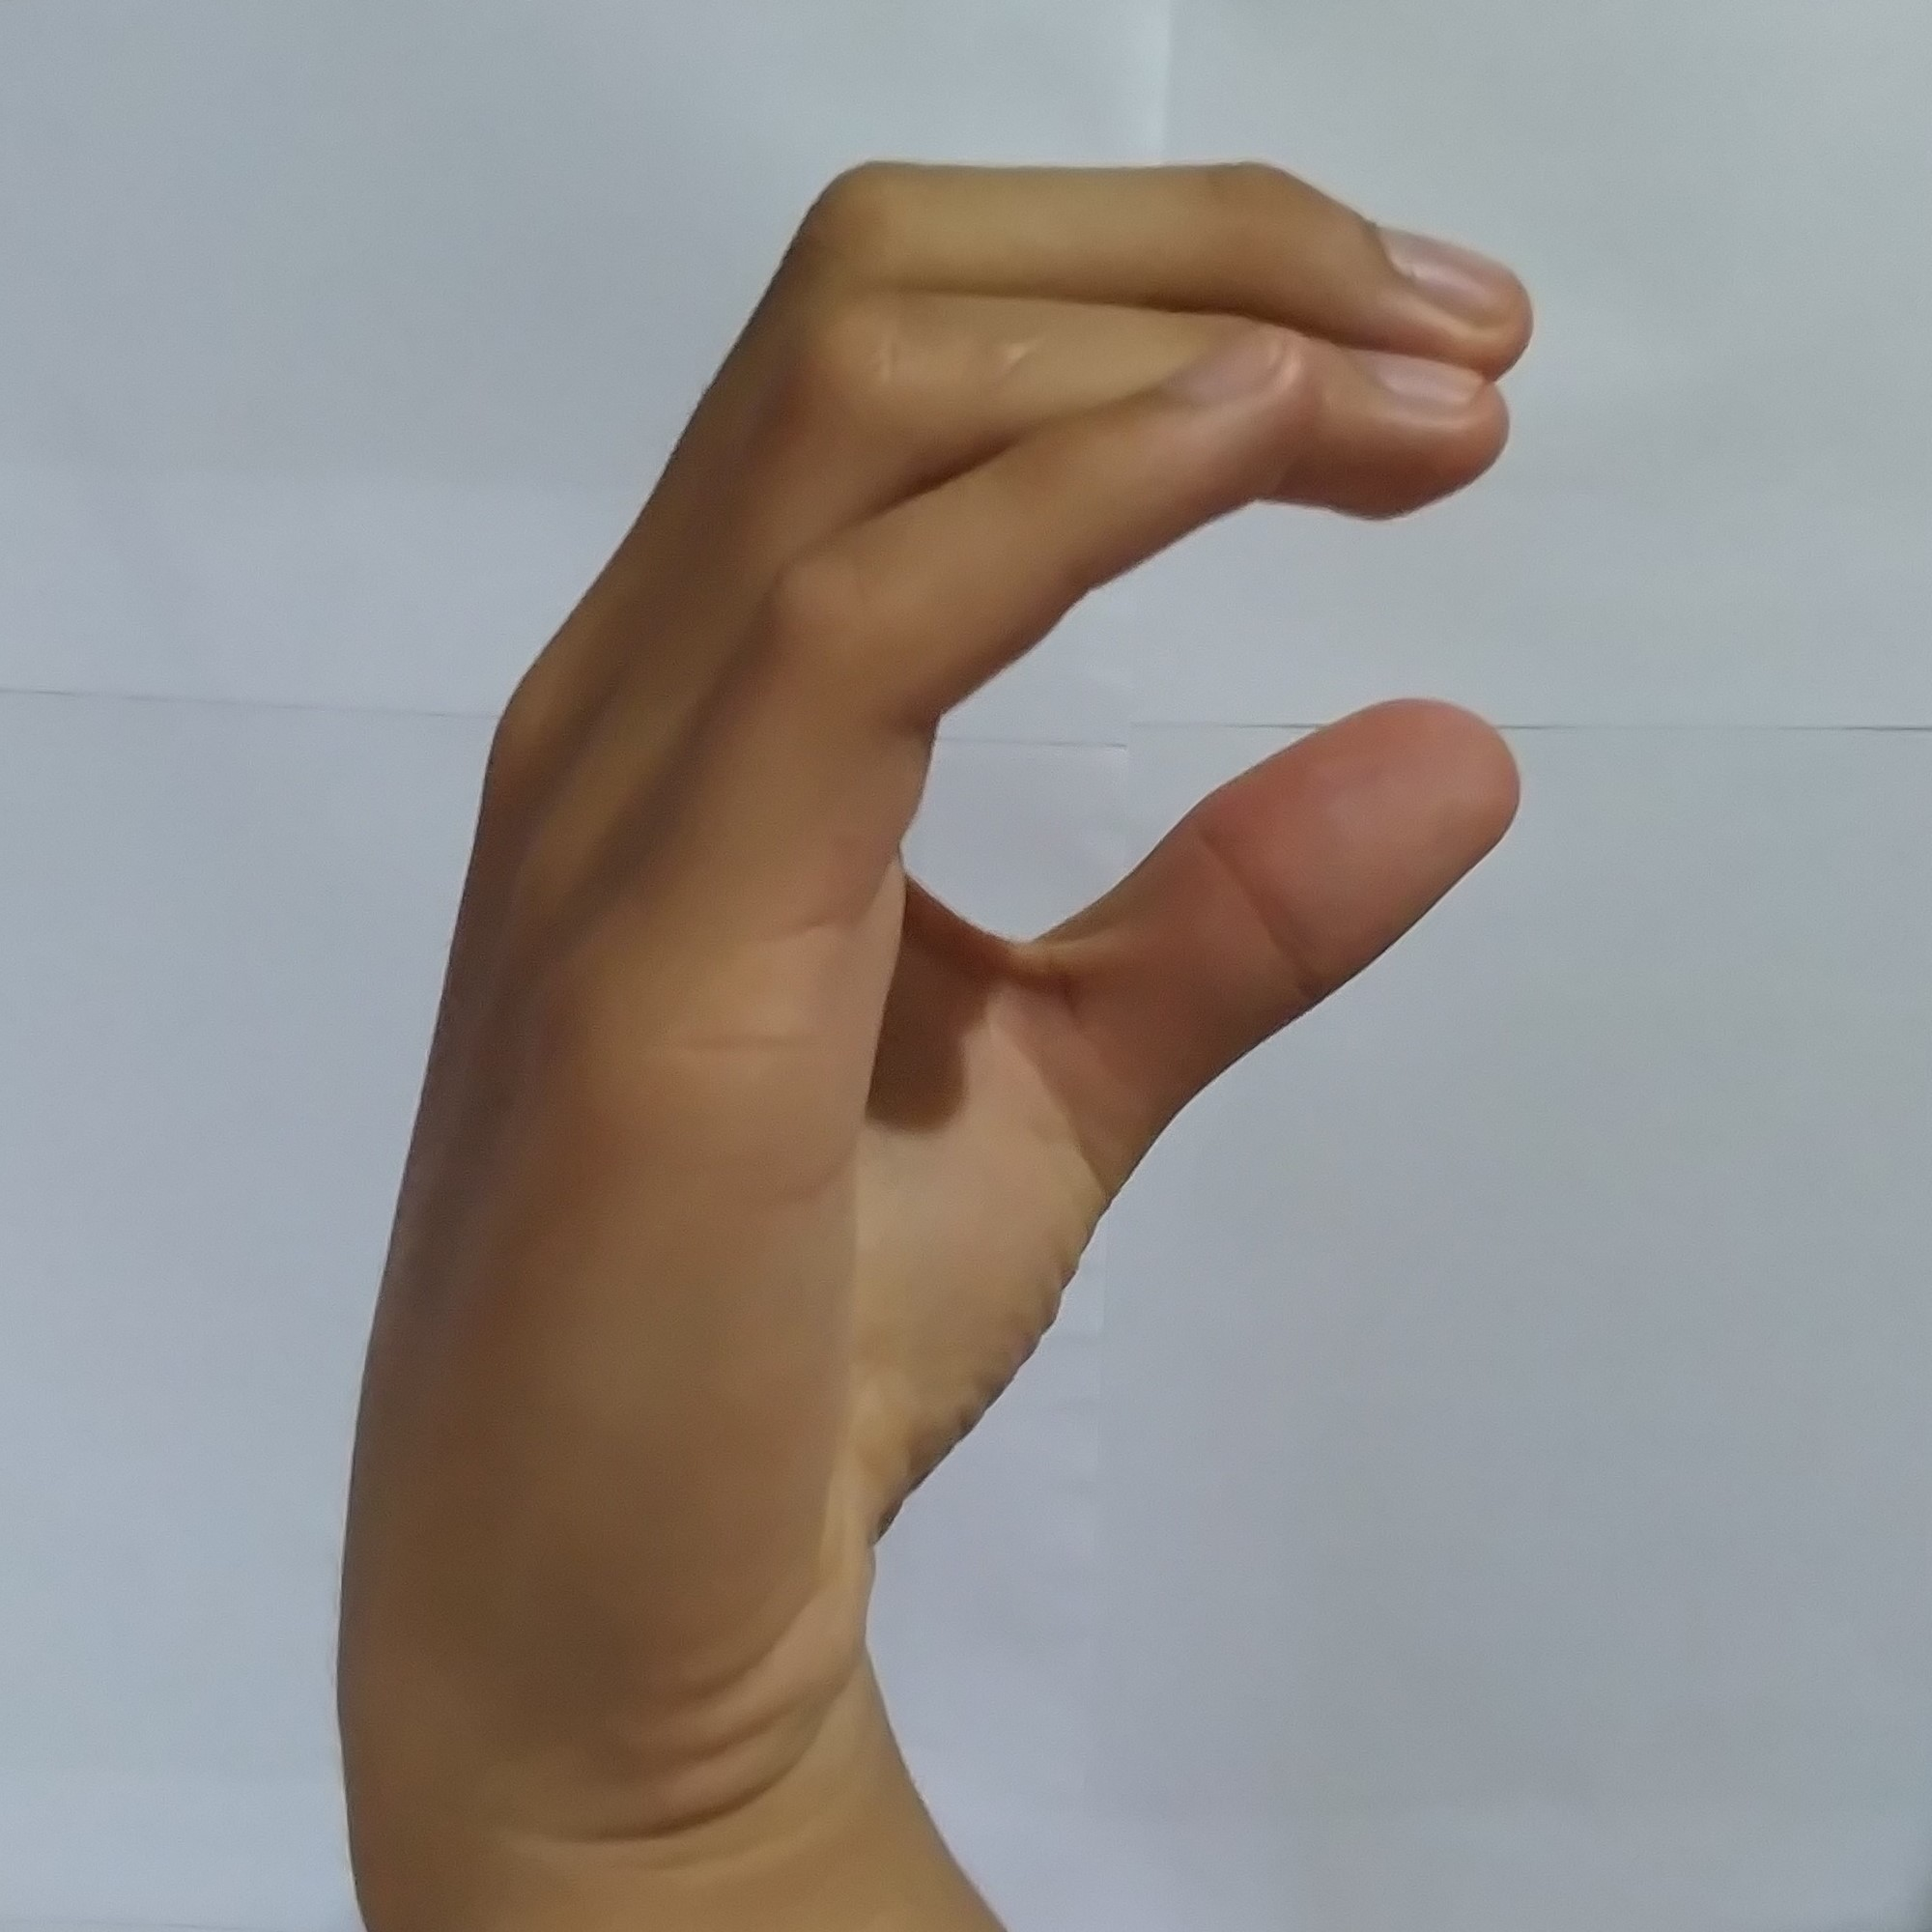C: (343, 103, 1557, 1675)
